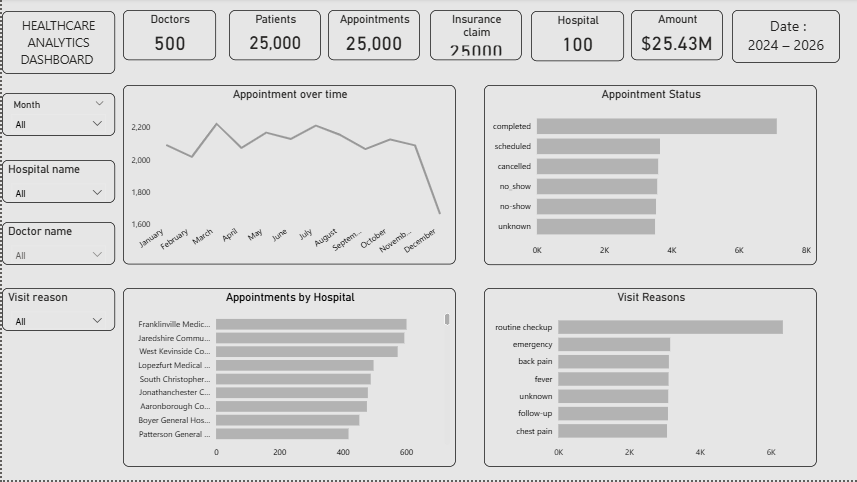

What the dashboard file says about the page in this screenshot:
{"tool":"powerbi","page":{"name":"Page 1","canvas":[1280,720],"ordinal":0},"visuals":[{"type":"card","title":"Doctors","fields":{"Values":["Count(dim_doctors.doctor_id)"]},"box":[180.7,17.9,138.9,74.7],"z":0},{"type":"card","title":"Hospital","fields":{"Values":["Count(dim_hospitals.hospital_id)"]},"box":[790.2,19.4,138.9,74.7],"z":1000},{"type":"card","title":"Patients","fields":{"Values":["CountNonNull(dim_patients.patient_id)"]},"box":[339.1,17.9,137.4,74.7],"z":2000},{"type":"card","title":"Appointments","fields":{"Values":["Count(fact_appointments.appointment_id)"]},"box":[487,17.9,137.4,74.7],"z":3000},{"type":"card","title":"Insurance claim","fields":{"Values":["Count(fact_insurance_claims.insurance_claim_id)"]},"box":[639.3,17.9,137.4,74.7],"z":4000},{"type":"card","title":"Amount","fields":{"Values":["Sum(fact_insurance_claims.total_billed_amount)"]},"box":[939.6,17.9,137.4,74.7],"z":5000},{"type":"lineChart","title":"Appointment over time","fields":{"Category":["fact_appointments.appointment_dates.Variation.Date Hierarchy.Month"],"Y":["CountNonNull(fact_appointments.appointment_id)"]},"box":[180.7,130,497,268],"z":5001},{"type":"barChart","title":"Appointment Status","fields":{"Y":["CountNonNull(fact_appointments.appointment_id)"],"Category":["fact_appointments.appointment_status"]},"box":[720,130,497.4,268.9],"z":5002},{"type":"barChart","title":"Appointments by Hospital","fields":{"Category":["dim_hospitals.hospital_name"],"Y":["CountNonNull(fact_appointments.appointment_id)"]},"box":[180.7,433.2,497.4,267.4],"z":5003},{"type":"barChart","title":"Visit Reasons","fields":{"Category":["fact_appointments.visit_reason"],"Y":["CountNonNull(fact_appointments.appointment_id)"]},"box":[720,433.2,497.4,267.4],"z":5004},{"type":"textbox","box":[0,19.4,168.8,94.1],"z":5005},{"type":"textbox","title":" 📅 Date: 2024–2026","box":[1091,17.9,161.3,79.2],"z":5006},{"type":"slicer","fields":{"Values":["fact_appointments.appointment_dates.Variation.Date Hierarchy.Month"]},"box":[0,141.9,168.8,64.2],"z":5007},{"type":"slicer","title":"Hospital name","fields":{"Values":["dim_hospitals.hospital_name"]},"box":[0,242,168.8,64.2],"z":5008},{"type":"slicer","title":"Doctor name","fields":{"Values":["dim_doctors.doctor_name"]},"box":[0,334.6,168.8,64.2],"z":5009},{"type":"slicer","title":"Visit reason","fields":{"Values":["fact_appointments.visit_reason"]},"box":[0,433.2,168.8,64.2],"z":5010}]}

Visuals, with their boxes in screenshot pixels (x1, y1, x2, y2), scaled from the page's 1280x720 canvas onto the 857x482 screenshot:
"Doctors" card: x1=121, y1=12, x2=214, y2=62
"Hospital" card: x1=529, y1=13, x2=622, y2=63
"Patients" card: x1=227, y1=12, x2=319, y2=62
"Appointments" card: x1=326, y1=12, x2=418, y2=62
"Insurance claim" card: x1=428, y1=12, x2=520, y2=62
"Amount" card: x1=629, y1=12, x2=721, y2=62
"Appointment over time" lineChart: x1=121, y1=87, x2=454, y2=266
"Appointment Status" barChart: x1=482, y1=87, x2=815, y2=267
"Appointments by Hospital" barChart: x1=121, y1=290, x2=454, y2=469
"Visit Reasons" barChart: x1=482, y1=290, x2=815, y2=469
textbox: x1=0, y1=13, x2=113, y2=76
" 📅 Date: 2024–2026" textbox: x1=730, y1=12, x2=838, y2=65
slicer - fact_appointments.appointment_dates.Variation.Date Hierarchy.Month: x1=0, y1=95, x2=113, y2=138
"Hospital name" slicer: x1=0, y1=162, x2=113, y2=205
"Doctor name" slicer: x1=0, y1=224, x2=113, y2=267
"Visit reason" slicer: x1=0, y1=290, x2=113, y2=333
